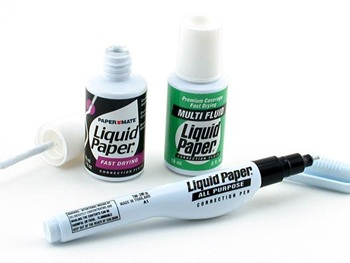Correction_fluid: (37, 150, 324, 248), (161, 9, 230, 177), (79, 42, 147, 182)
